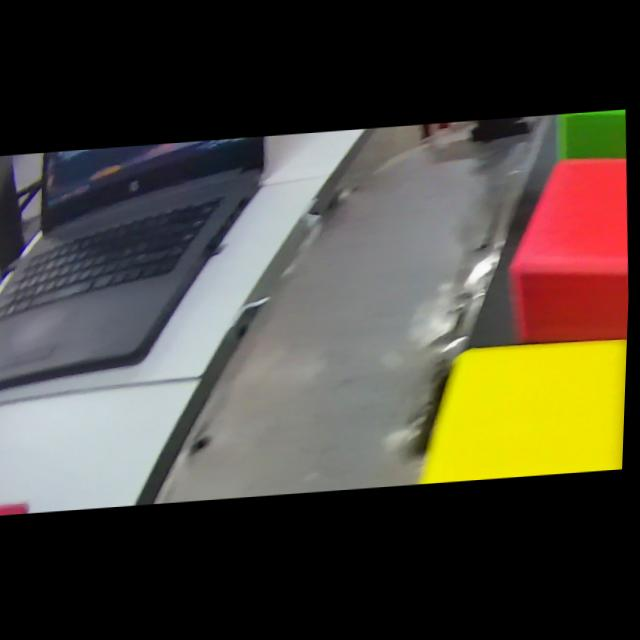greenBox: (553, 112, 629, 176)
redBox: (497, 151, 635, 369)
yellowBox: (406, 333, 630, 487)
